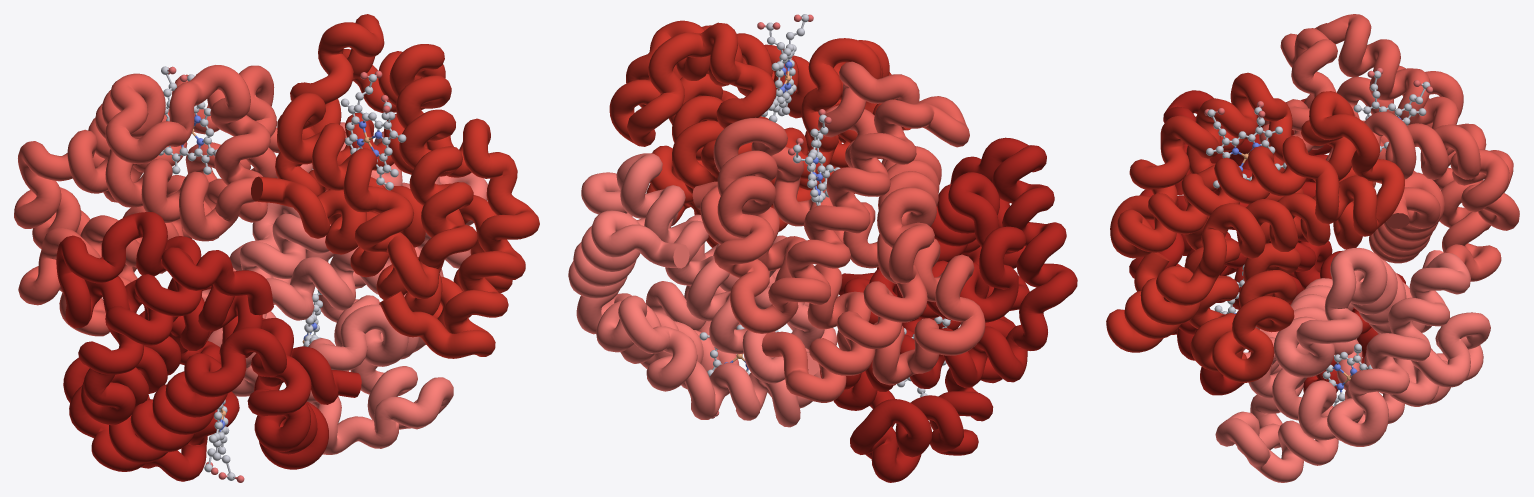
File: hemoglobin.glb
3 renders of one model, left to right at view 1: azimuth 30°, elevation 25°; view 2: azimuth 150°, elevation 25°; view 3: azimuth 270°, elevation 25°, orthographic. The views are drawn at different scales.
Parts seen in each view (by area): view 1: 4HHB_export3; view 2: 4HHB_export3; view 3: 4HHB_export3.
Boxes of the visible parts, x1,y1,x2,y2 form: 4HHB_export3: (14,14,539,482); 4HHB_export3: (568,14,1077,482); 4HHB_export3: (1106,14,1519,482).
Bounding box in the file's own units: 0.6565 × 0.5759 × 0.5632.
